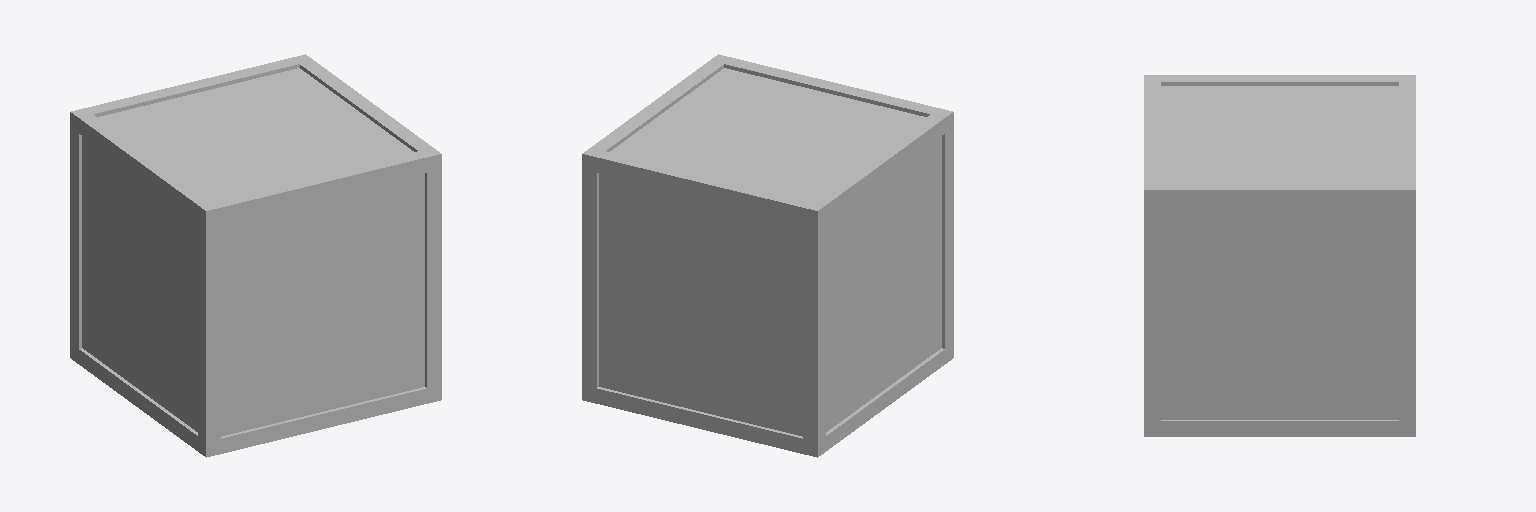
Rendered from crate.obj.
3 views of the same model, side by side, from view 1: azimuth 30°, elevation 25°; view 2: azimuth 150°, elevation 25°; view 3: azimuth 270°, elevation 25° (orthographic).
Visible parts, largest first — view 1: slot176; view 2: slot176; view 3: slot176.
Boxes of the visible parts, x1,y1,x2,y2 form: slot176: [70, 54, 441, 457]; slot176: [582, 54, 953, 457]; slot176: [1144, 75, 1415, 436].
Size of the model in its own units: 16 by 16 by 16.